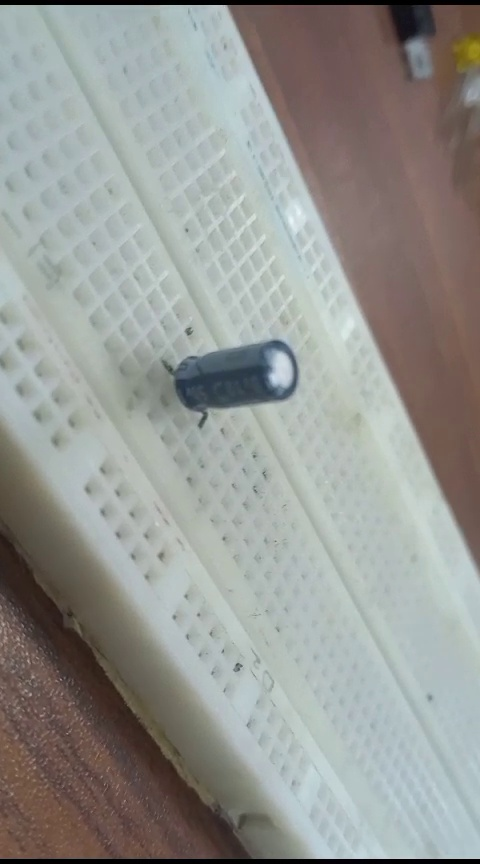capacitor: (154, 324, 302, 449)
